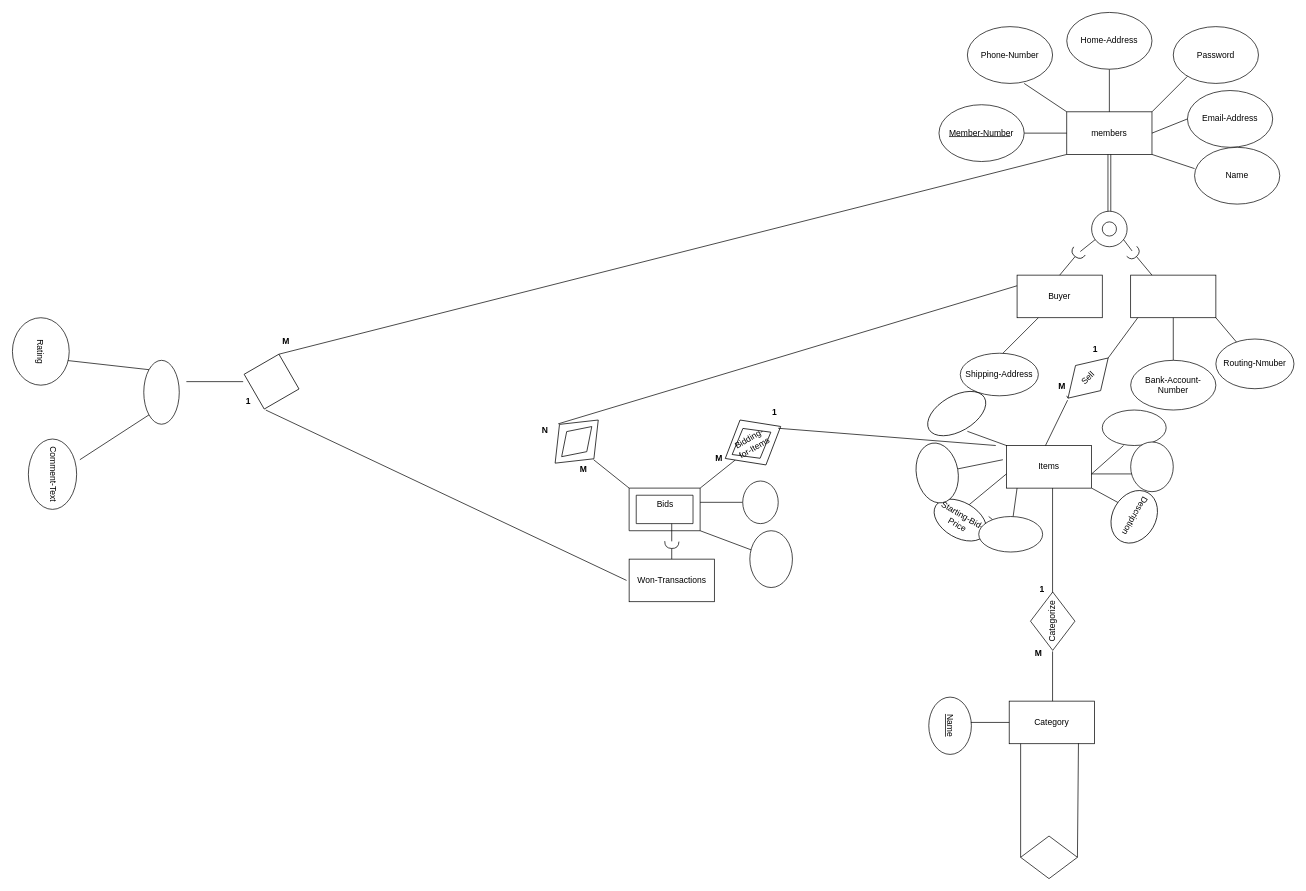
This 1306x891 diagram has some shape labels left out. The box of each missing label's shape, as (x1, y1, x2, y2) in pixels:
Bidding-Increment: (911, 439, 963, 506)
Categorizing-Relation: (1020, 835, 1077, 879)
End-Date-of-Auction: (1102, 409, 1166, 446)
FeedBack: (143, 360, 179, 424)
Item-Number: (919, 381, 993, 445)
Make-Bids: (551, 416, 602, 467)
Making-Transaction: (236, 346, 306, 416)
Price: (749, 530, 792, 588)
Seller: (1130, 274, 1216, 318)
Start-Date-of-Auction: (1130, 441, 1173, 492)
Time: (742, 480, 778, 524)
Title: (978, 516, 1043, 552)
